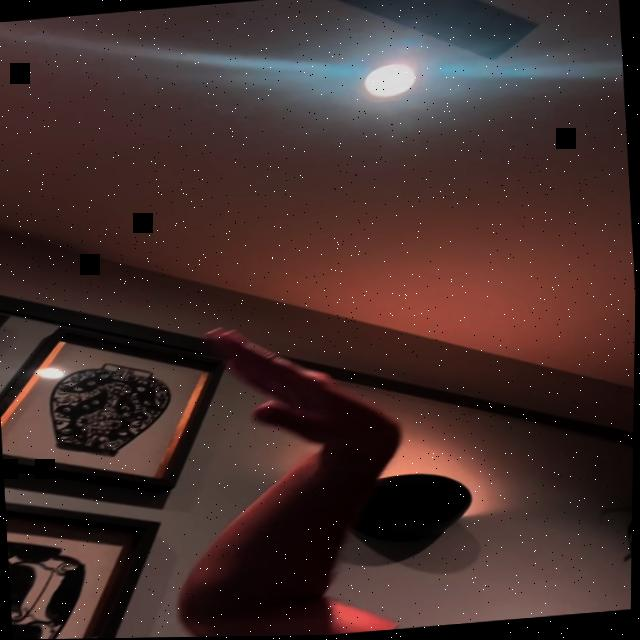Paper: (201, 312, 407, 477)
